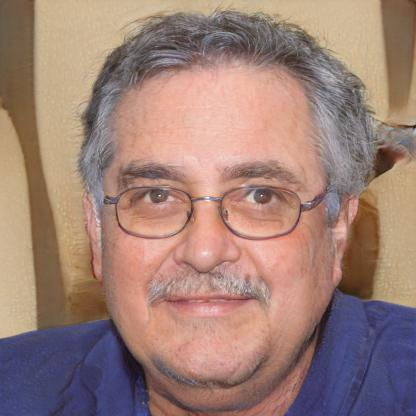glasses: (102, 180, 325, 242)
